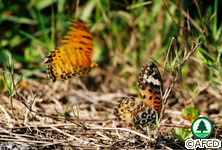Argyreus hyperbius: (110, 57, 165, 133), (43, 16, 100, 81)
butterfly: (112, 59, 167, 135), (43, 18, 100, 83)
